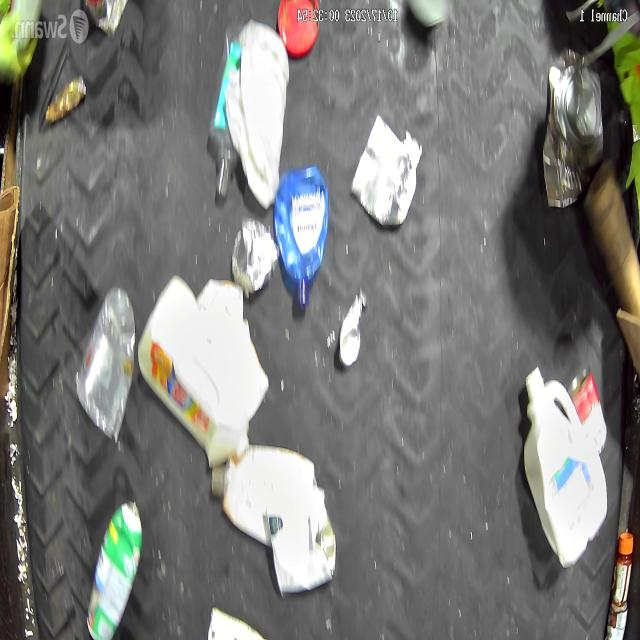can: (544, 65, 604, 207), (86, 499, 143, 640), (350, 114, 418, 225), (232, 215, 276, 293), (567, 366, 608, 443), (338, 294, 363, 370)
milk_jug: (138, 274, 250, 465), (519, 369, 606, 568), (225, 45, 290, 209)
non_white_jug: (276, 168, 330, 309)
plastic_bottle: (208, 29, 238, 206)
